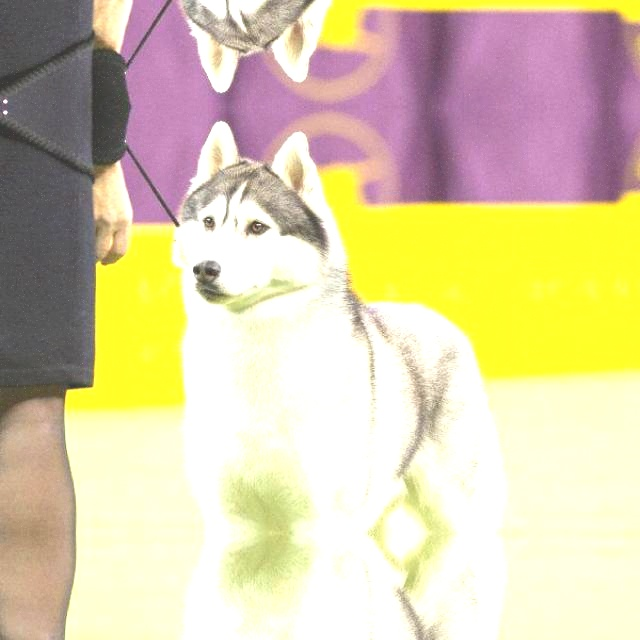dog: (170, 113, 535, 533), (170, 533, 535, 640), (170, 0, 535, 99)
